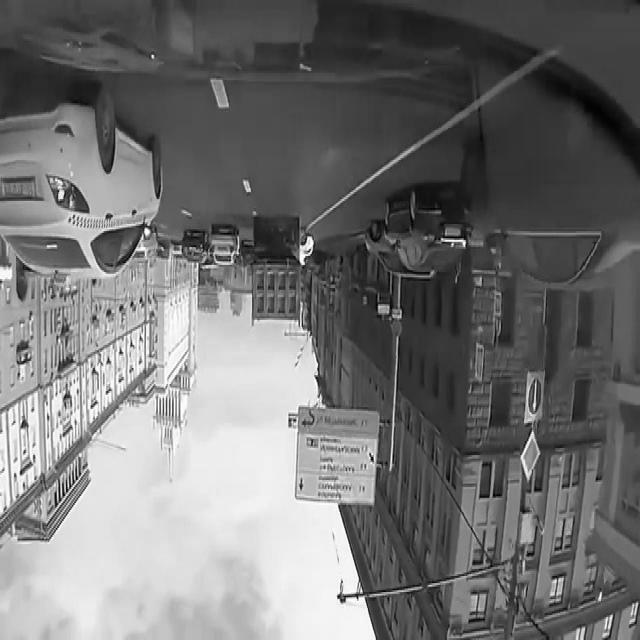moderate: (246, 208, 316, 334)
